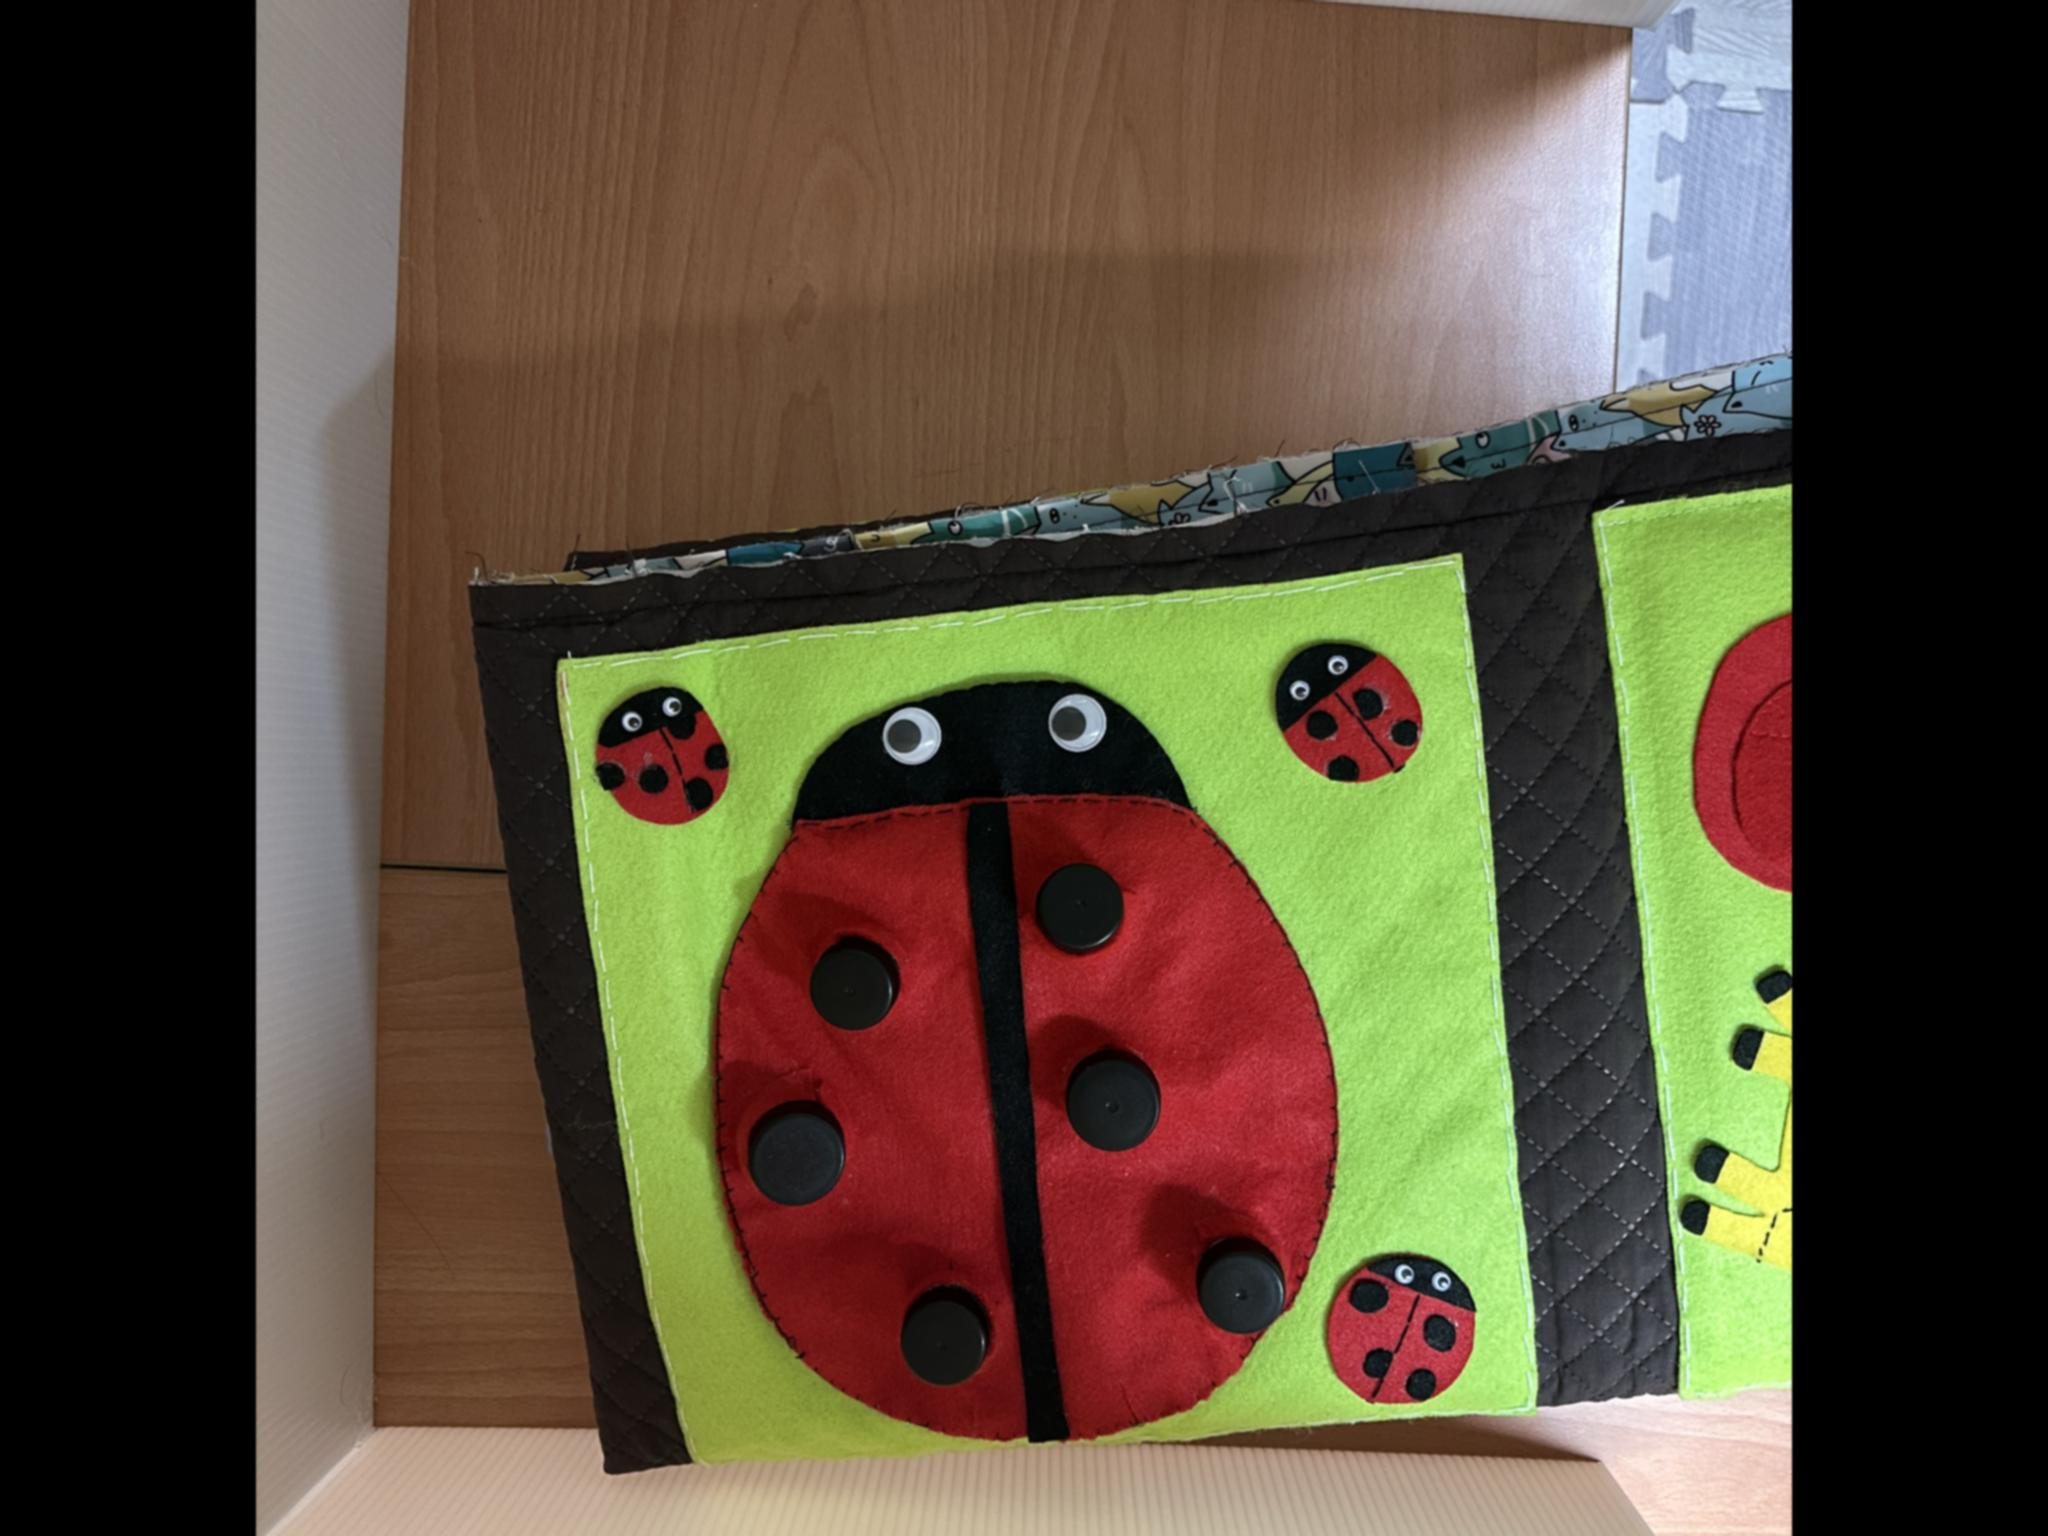cap_ok: (1150, 1202, 1314, 1368), (714, 1083, 868, 1231), (1039, 1016, 1179, 1178), (871, 1258, 1016, 1407), (1003, 834, 1151, 975), (782, 915, 918, 1049)
